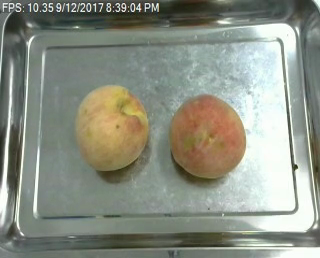Peach: (74, 84, 149, 171), (170, 94, 246, 176)
